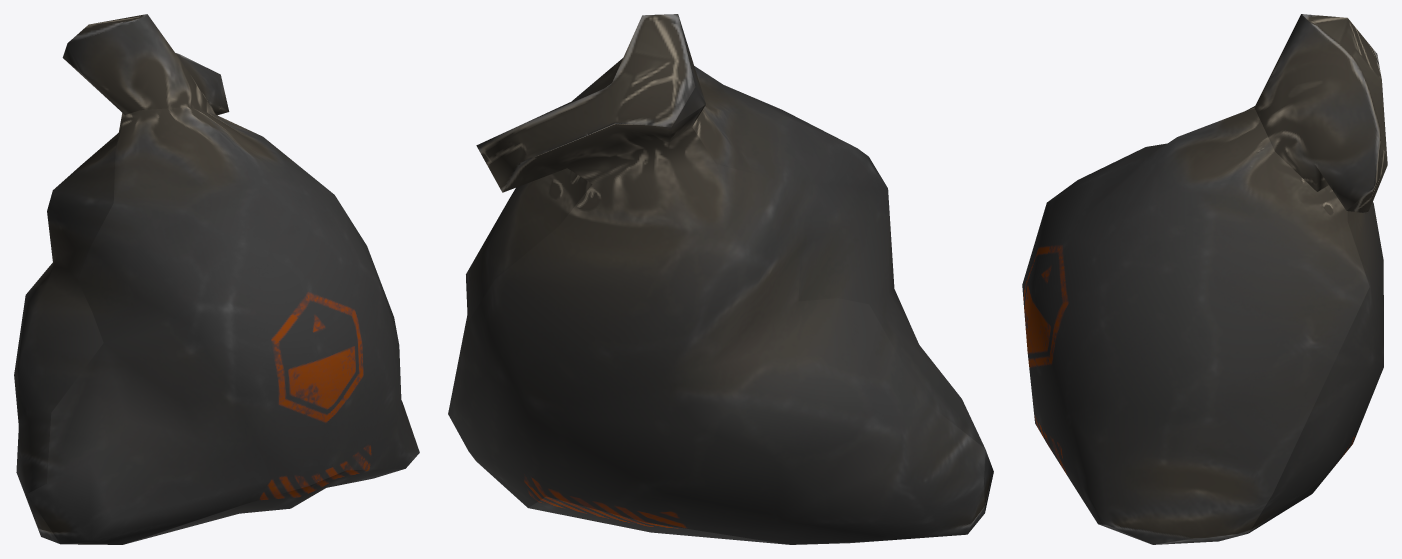
The model's file is SM_Rubbish_Bag.FBX.
3 renders of one model, left to right at view 1: azimuth 30°, elevation 25°; view 2: azimuth 150°, elevation 25°; view 3: azimuth 270°, elevation 25°, orthographic. The views are drawn at different scales.
Parts seen in each view (by area): view 1: SM_Rubbish_Bag; view 2: SM_Rubbish_Bag; view 3: SM_Rubbish_Bag.
Boxes of the visible parts, x1,y1,x2,y2 form: SM_Rubbish_Bag: (14, 14, 419, 544); SM_Rubbish_Bag: (448, 14, 993, 544); SM_Rubbish_Bag: (1022, 14, 1387, 544).
Size of the model in its own units: 105 by 111 by 84.56.
Materials: 1 (1 with a texture image).
